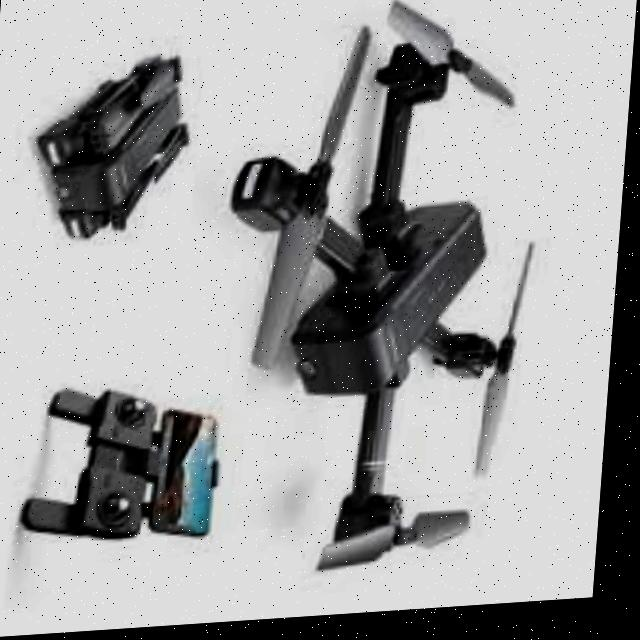drone: (205, 0, 574, 627)
